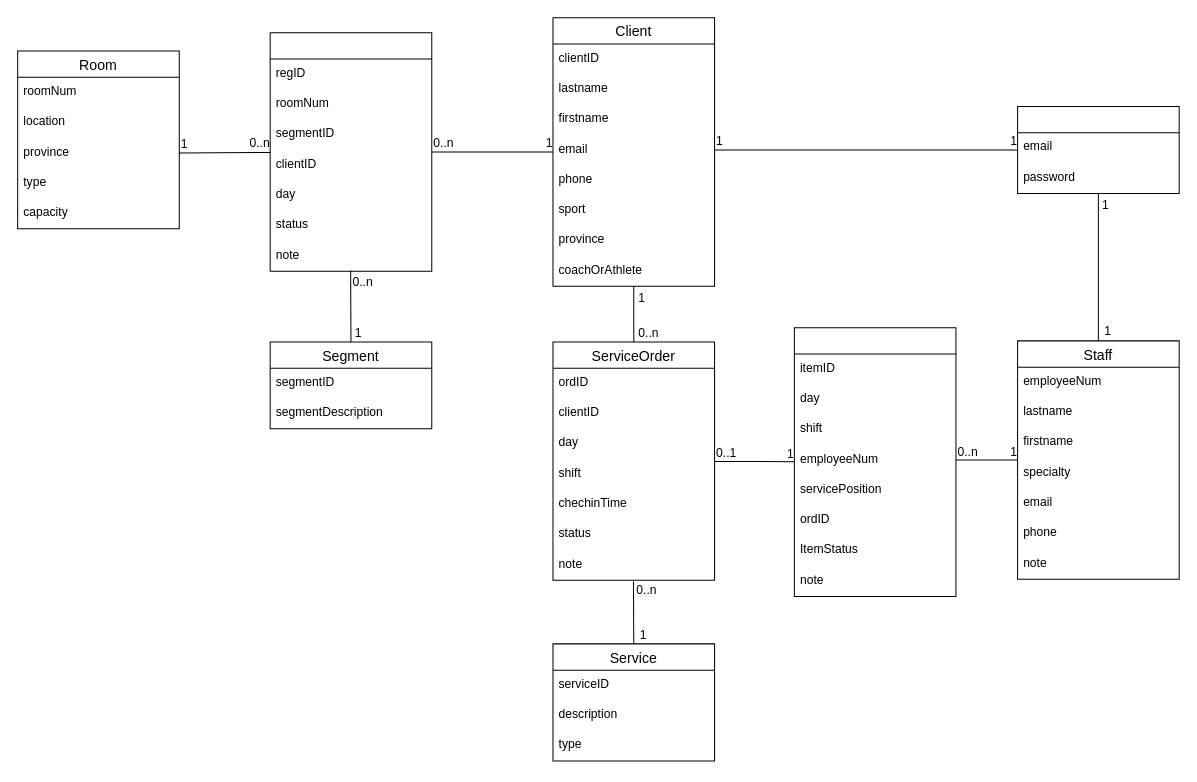
The diagram is 1197 pixels wide and 782 high, and some of its shapes have lost their labels. The box of each missing label's shape, as (x1, y1, x2, y2) in pixels:
Account: (1017, 106, 1179, 193)
Registration: (269, 32, 432, 271)
StaffSchedule: (793, 327, 956, 596)
